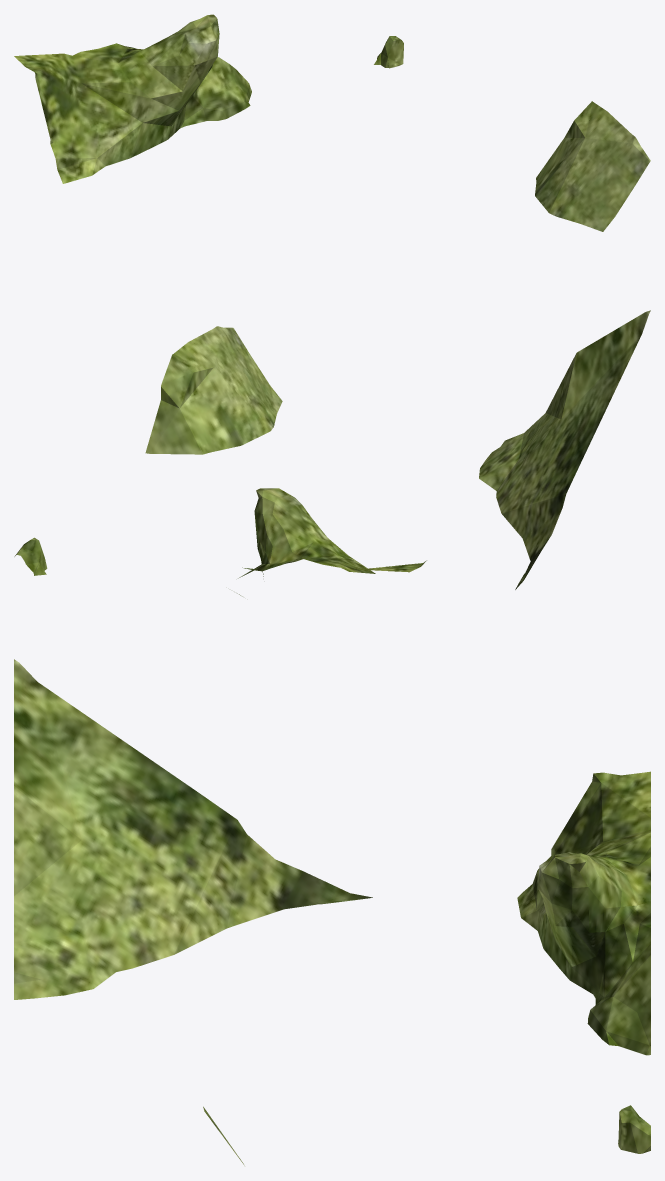
3 renders of one model, top to bottom at view 1: azimuth 30°, elevation 25°; view 2: azimuth 150°, elevation 25°; view 3: azimuth 270°, elevation 25°, orthographic. The views are drawn at different scales.
Bounding box in the file's own units: 2.95 × 1.22 × 2.95.
Materials: 1 (1 with a texture image).
